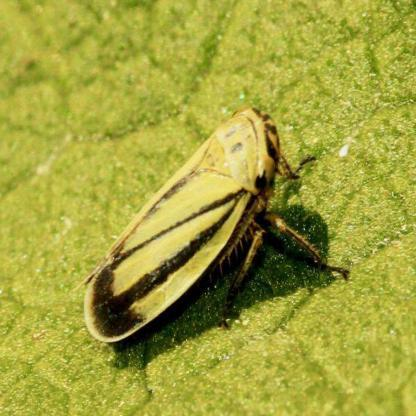green-leafhopper: (84, 107, 352, 342)
